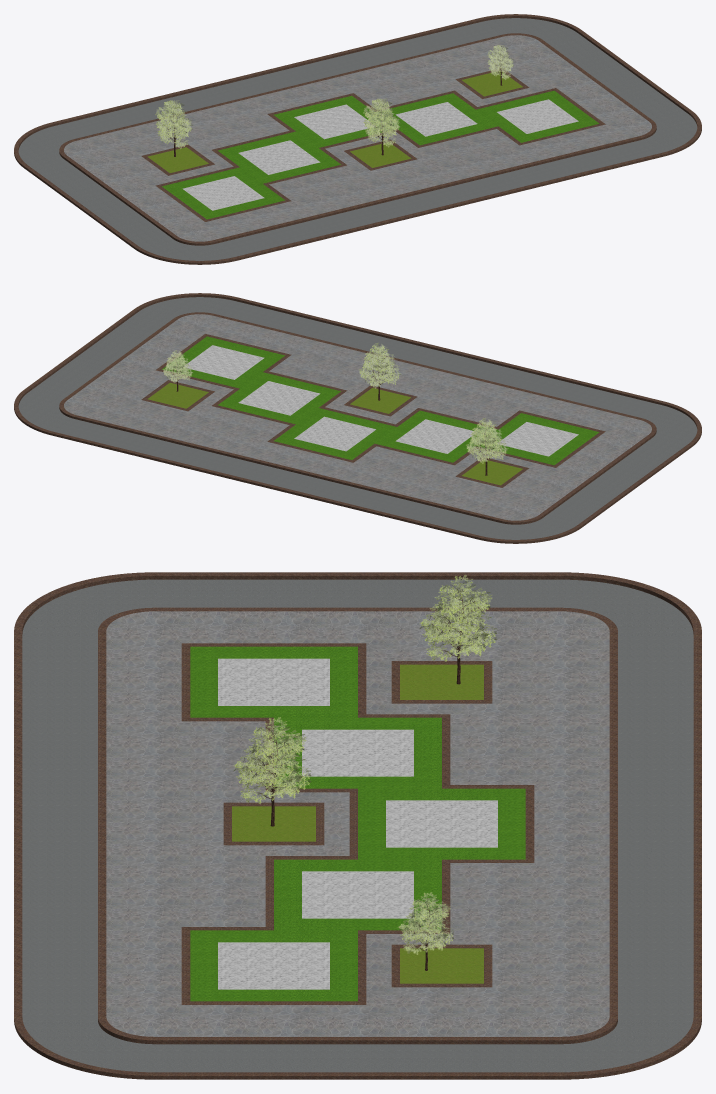
3 renders of one model, top to bottom at view 1: azimuth 30°, elevation 25°; view 2: azimuth 150°, elevation 25°; view 3: azimuth 270°, elevation 25°, orthographic. The views are drawn at different scales.
Parts seen in each view (by area): view 1: 5) Model - 5.dwg; view 2: 5) Model - 5.dwg; view 3: 5) Model - 5.dwg.
Boxes of the visible parts, <box> form: 5) Model - 5.dwg: <box>14,14,701,264</box>; 5) Model - 5.dwg: <box>14,293,701,543</box>; 5) Model - 5.dwg: <box>14,572,701,1079</box>.
Size of the model in its own units: 42.6 by 4.21 by 24.6.
631 materials, 631 textured.
